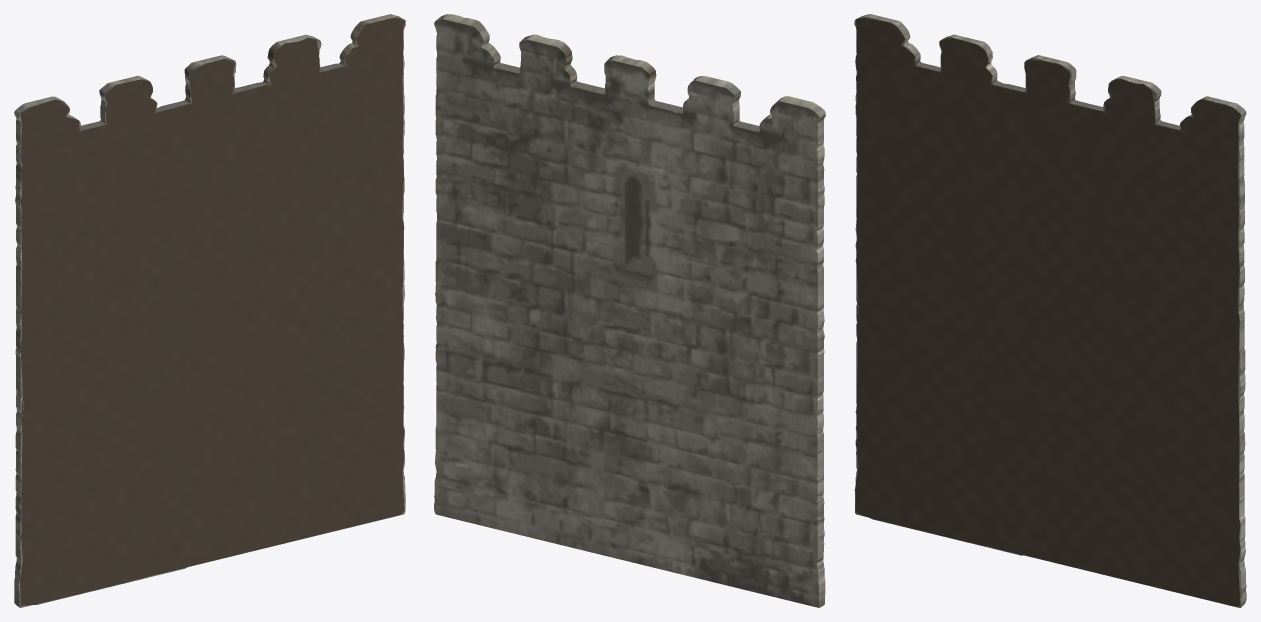
File: castlewall-standee.glb
3 renders of one model, left to right at view 1: azimuth 30°, elevation 25°; view 2: azimuth 150°, elevation 25°; view 3: azimuth 330°, elevation 25°, orthographic.
Visible parts, largest first — view 1: Standee.Castlewall; view 2: Standee.Castlewall; view 3: Standee.Castlewall.
Part boxes in pixels (x1=…): Standee.Castlewall: x1=14, y1=14, x2=405, y2=607; Standee.Castlewall: x1=434, y1=14, x2=825, y2=607; Standee.Castlewall: x1=854, y1=14, x2=1246, y2=607.
Bounding box in the file's own units: 1.61 × 1.99 × 0.0414.
Materials: 1 (1 with a texture image).
